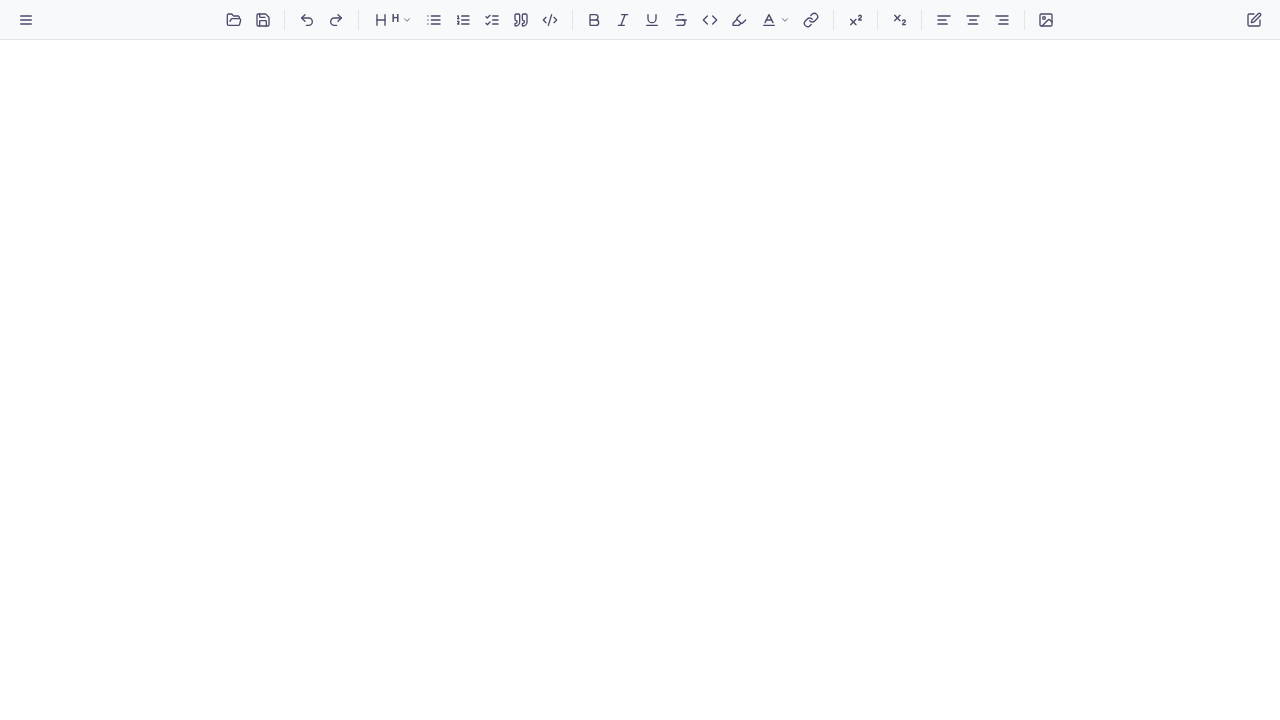
Test: Toolbar › closes the heading dropdown on outside click
Click the button titled "Heading". click: (393, 20)
box: [366,6,419,34]
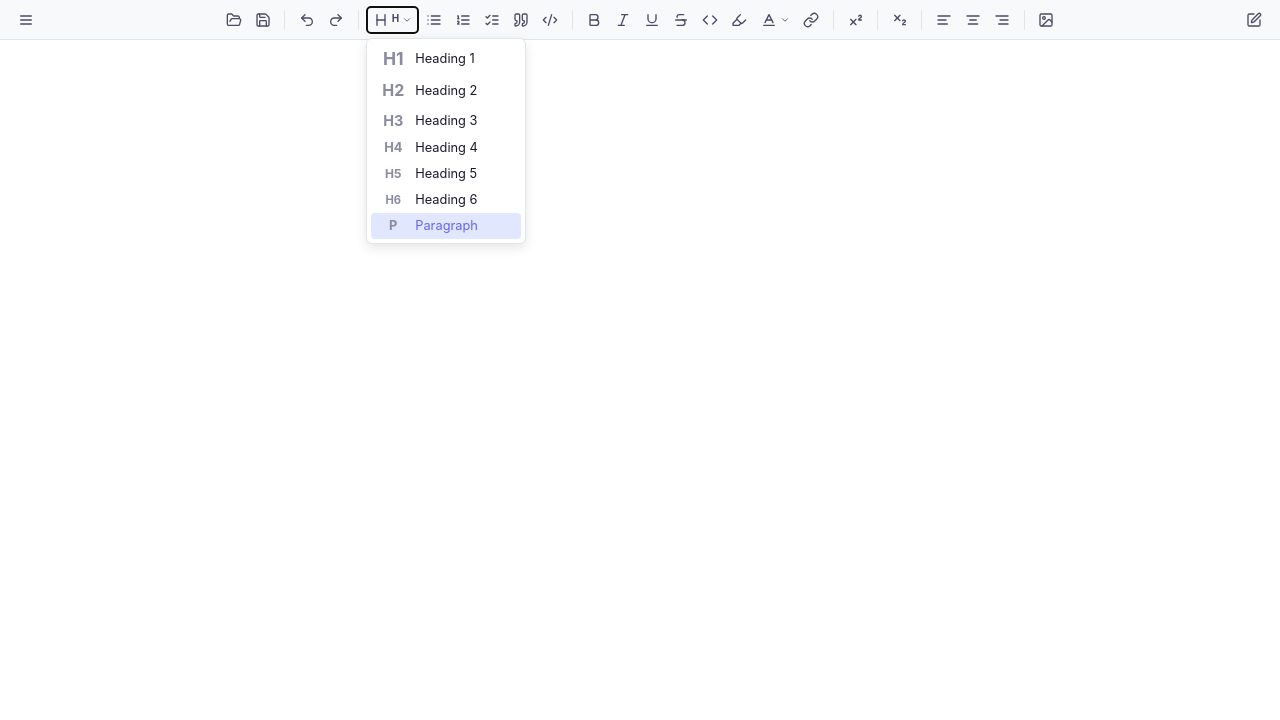
Check: the text "Heading 2" is shown, box [415,83,477,98]
Click the element that starts with "Heading". click: (640, 360)
box: [0,0,1279,719]
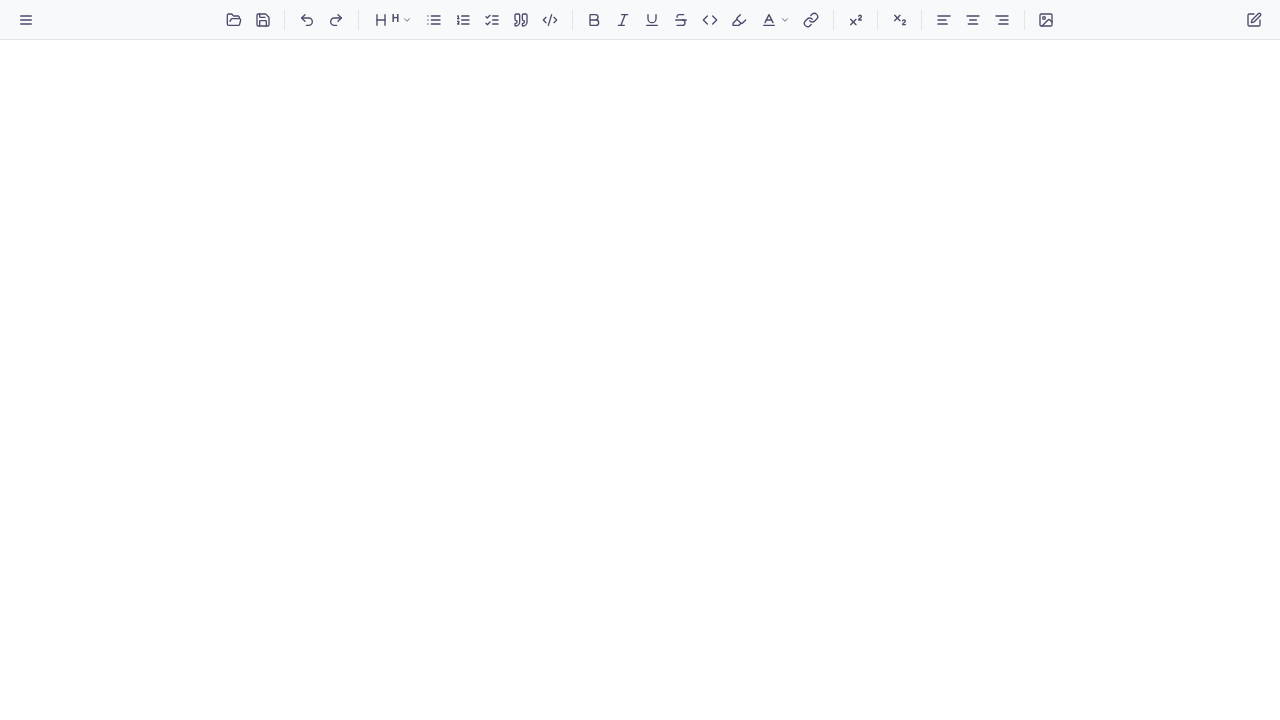
Check: the button "Heading 2" is gone
